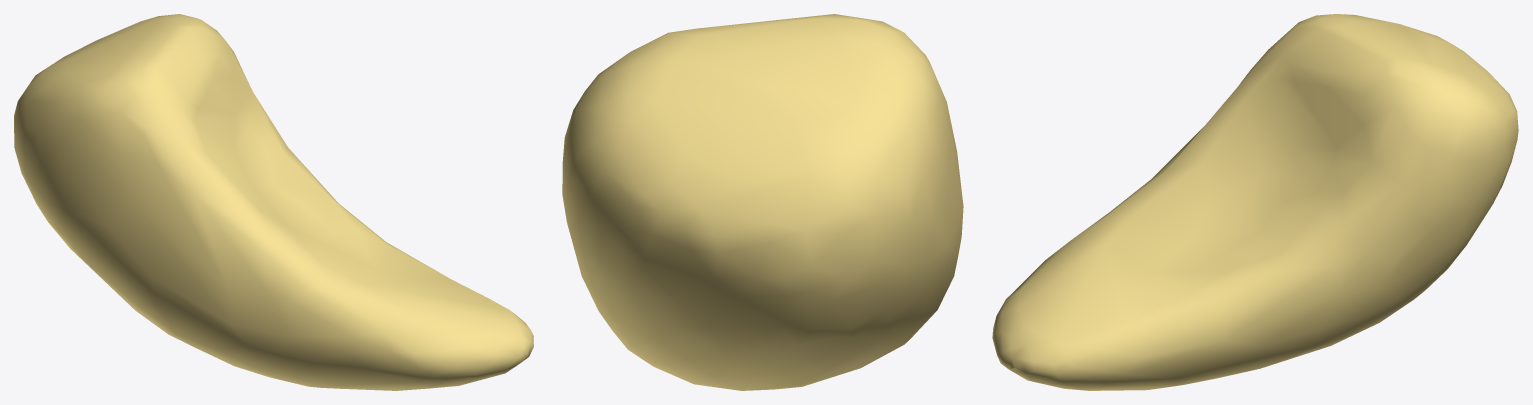
Rendered from fma73304.glb.
The picture shows the model from 3 angles, left to right: view 1: azimuth 30°, elevation 25°; view 2: azimuth 150°, elevation 25°; view 3: azimuth 270°, elevation 25°; orthographic projection. The views are drawn at different scales.
Visible parts, largest first — view 1: FMA73304; view 2: FMA73304; view 3: FMA73304.
Boxes of the visible parts, x1,y1,x2,y2 form: FMA73304: (14,14,533,390); FMA73304: (562,14,963,390); FMA73304: (992,14,1518,390).
Bounding box in the file's own units: 0.00806 × 0.00676 × 0.011.
